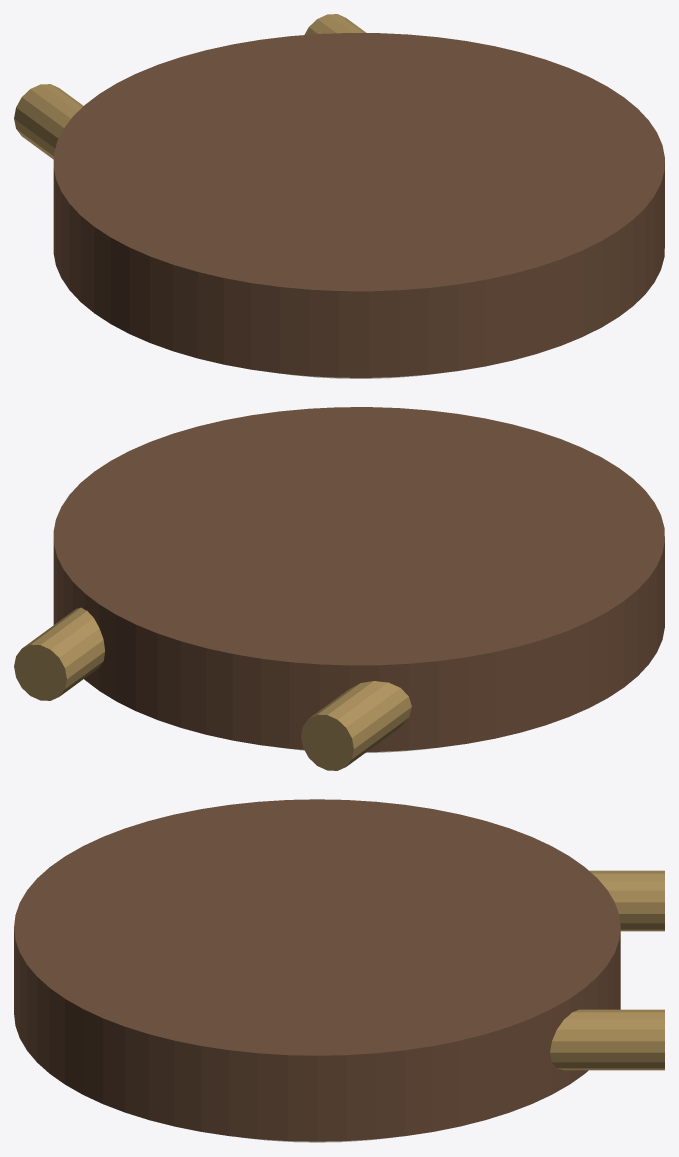
File: prop_bottom_round_clock.glb
The picture shows the model from 3 angles, top to bottom: view 1: azimuth 30°, elevation 25°; view 2: azimuth 150°, elevation 25°; view 3: azimuth 270°, elevation 25°; orthographic projection.
Parts seen in each view (by area): view 1: prop_bottom_round_clock_dark_walnut_round_body, prop_bottom_round_clock_left_leg, prop_bottom_round_clock_right_leg; view 2: prop_bottom_round_clock_dark_walnut_round_body, prop_bottom_round_clock_left_leg, prop_bottom_round_clock_right_leg; view 3: prop_bottom_round_clock_dark_walnut_round_body, prop_bottom_round_clock_right_leg, prop_bottom_round_clock_left_leg.
Part boxes in pixels (bbox=[...]): prop_bottom_round_clock_dark_walnut_round_body: bbox=[53, 33, 664, 377]; prop_bottom_round_clock_left_leg: bbox=[14, 84, 83, 159]; prop_bottom_round_clock_right_leg: bbox=[304, 14, 366, 34]; prop_bottom_round_clock_dark_walnut_round_body: bbox=[53, 407, 664, 751]; prop_bottom_round_clock_left_leg: bbox=[301, 681, 411, 770]; prop_bottom_round_clock_right_leg: bbox=[14, 607, 105, 700]; prop_bottom_round_clock_dark_walnut_round_body: bbox=[14, 799, 620, 1141]; prop_bottom_round_clock_right_leg: bbox=[550, 1009, 664, 1070]; prop_bottom_round_clock_left_leg: bbox=[589, 870, 664, 931].
Bounding box in the file's own units: 0.4416 × 0.1053 × 0.4738.
